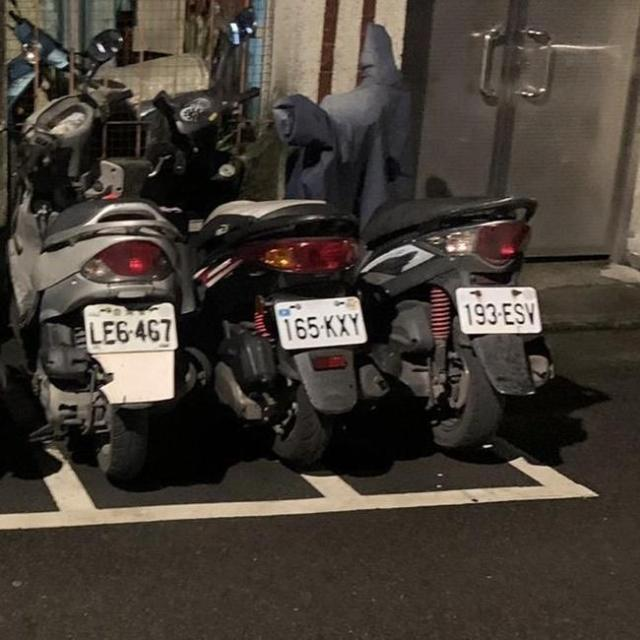W: (74, 296, 184, 356), (267, 292, 371, 352), (446, 280, 549, 338)
